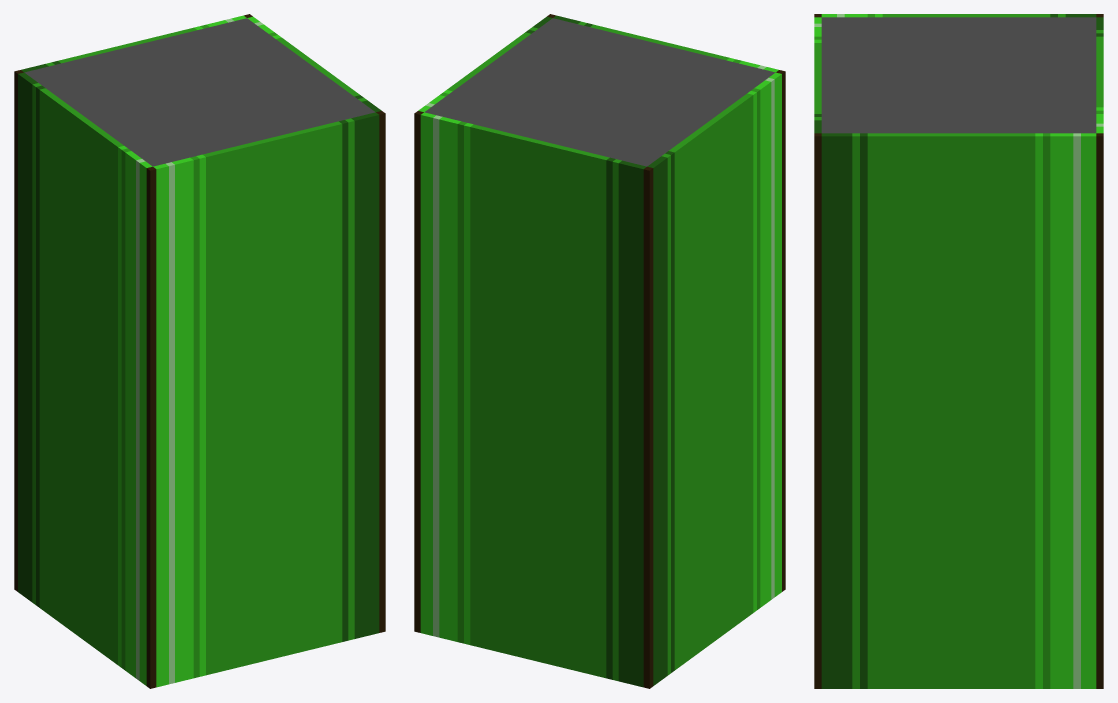
File: bottom_tube.obj
The picture shows the model from 3 angles, left to right: view 1: azimuth 30°, elevation 25°; view 2: azimuth 150°, elevation 25°; view 3: azimuth 270°, elevation 25°; orthographic projection. The views are drawn at different scales.
Size of the model in its own units: 3.8 by 8 by 3.8.
Materials: 1 (1 with a texture image).
